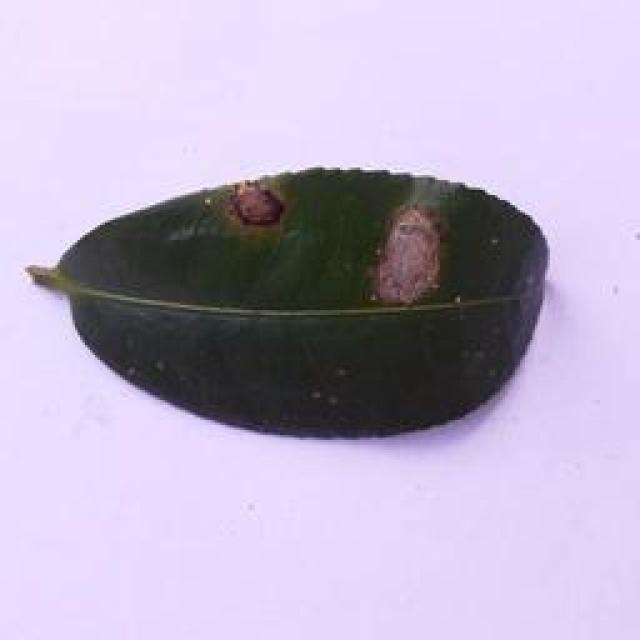Gray Blight: (28, 160, 557, 436)
